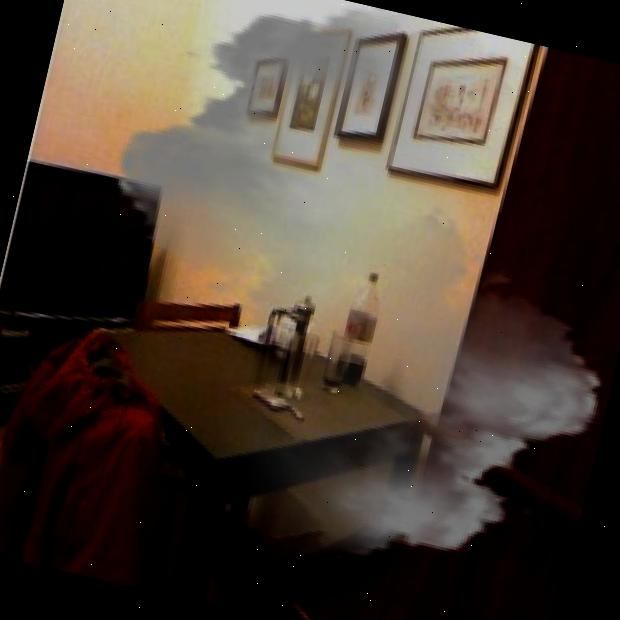smoke: (24, 0, 620, 612)
